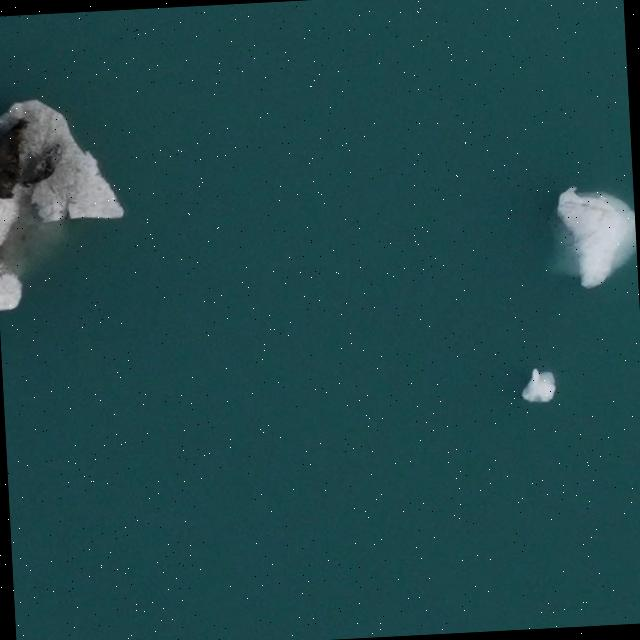seal: (0, 120, 28, 198), (20, 142, 62, 185)
